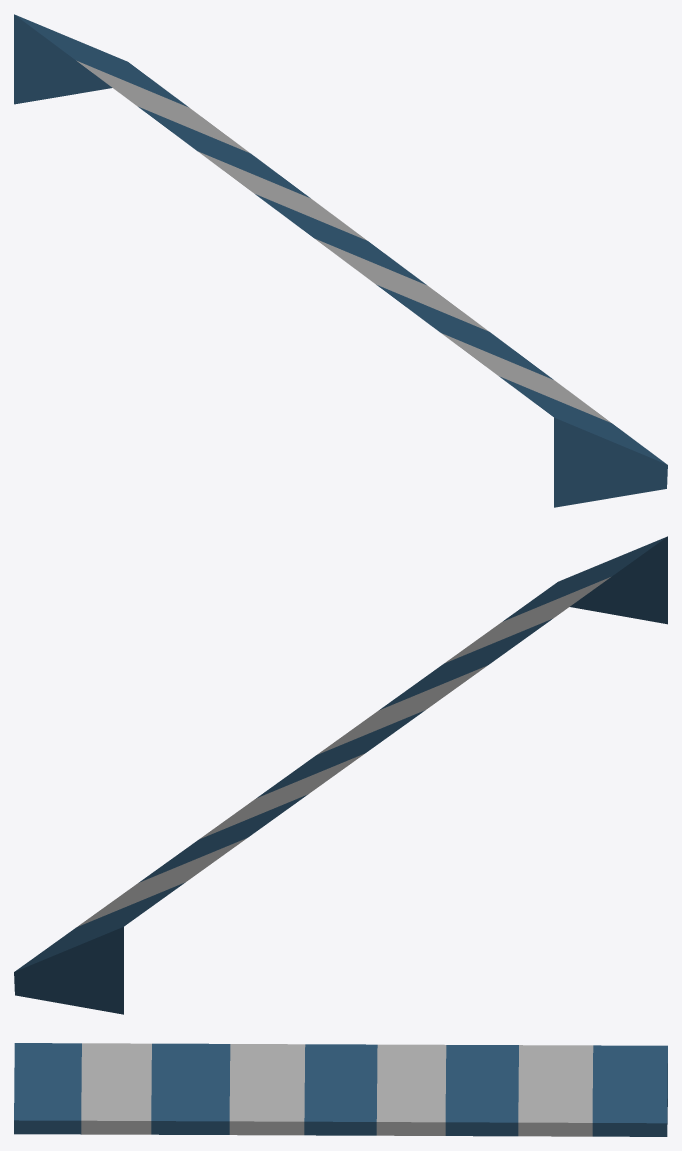
File: shadecloth.fbx
3 renders of one model, top to bottom at view 1: azimuth 30°, elevation 25°; view 2: azimuth 150°, elevation 25°; view 3: azimuth 270°, elevation 25°, orthographic. The views are drawn at different scales.
Visible parts, largest first — view 1: pPlane3; view 2: pPlane3; view 3: pPlane3.
Boxes of the visible parts, left/top/right/bottom form: pPlane3: left=14, top=14, right=667, bottom=507; pPlane3: left=14, top=536, right=667, bottom=1014; pPlane3: left=14, top=1043, right=667, bottom=1136.
Size of the model in its own units: 1.52 by 1.17 by 11.82.
